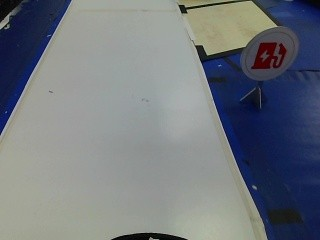battery: (236, 24, 299, 83)
